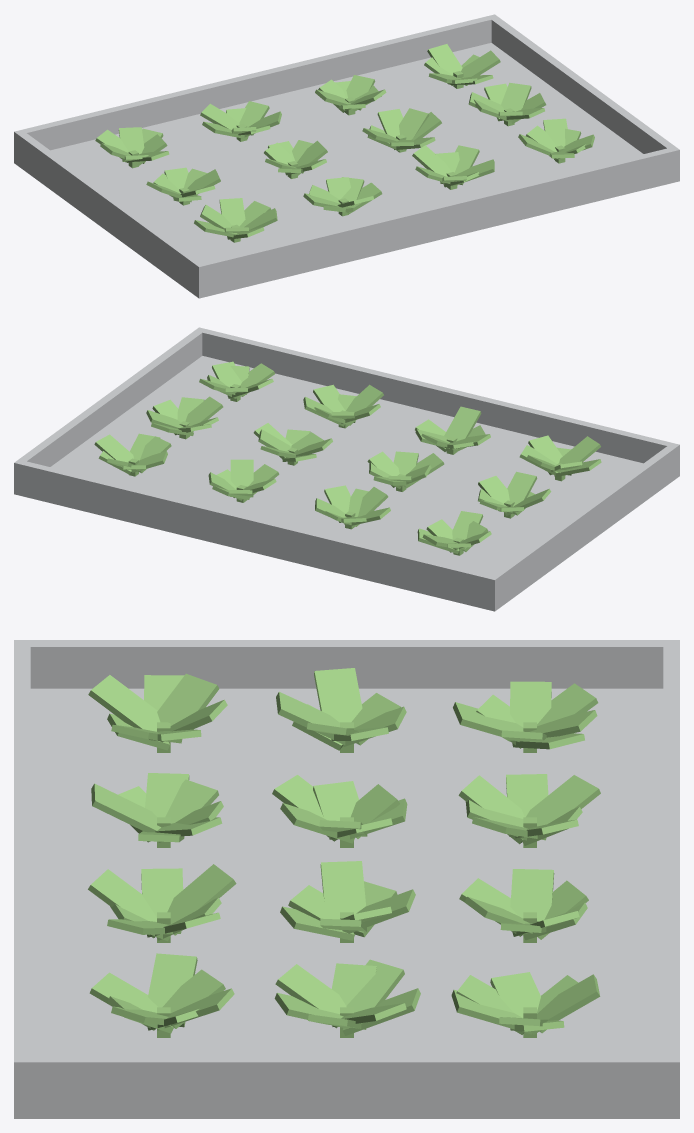
File: vertical-farm-and-hydroponics-tower-vertical-farm-and--d9e8899e__38350.glb
3 renders of one model, top to bottom at view 1: azimuth 30°, elevation 25°; view 2: azimuth 150°, elevation 25°; view 3: azimuth 270°, elevation 25°, orthographic. The views are drawn at different scales.
Parts seen in each view (by area): view 1: vertical-farm-and-hydroponics-tower-grow-tray-half-grown; view 2: vertical-farm-and-hydroponics-tower-grow-tray-half-grown; view 3: vertical-farm-and-hydroponics-tower-grow-tray-half-grown.
Boxes of the visible parts, bbox=[...] form: vertical-farm-and-hydroponics-tower-grow-tray-half-grown: bbox=[14, 14, 679, 298]; vertical-farm-and-hydroponics-tower-grow-tray-half-grown: bbox=[14, 327, 679, 611]; vertical-farm-and-hydroponics-tower-grow-tray-half-grown: bbox=[14, 640, 679, 1118].
Bounding box in the file's own units: 1.2 × 0.0924 × 0.8.
